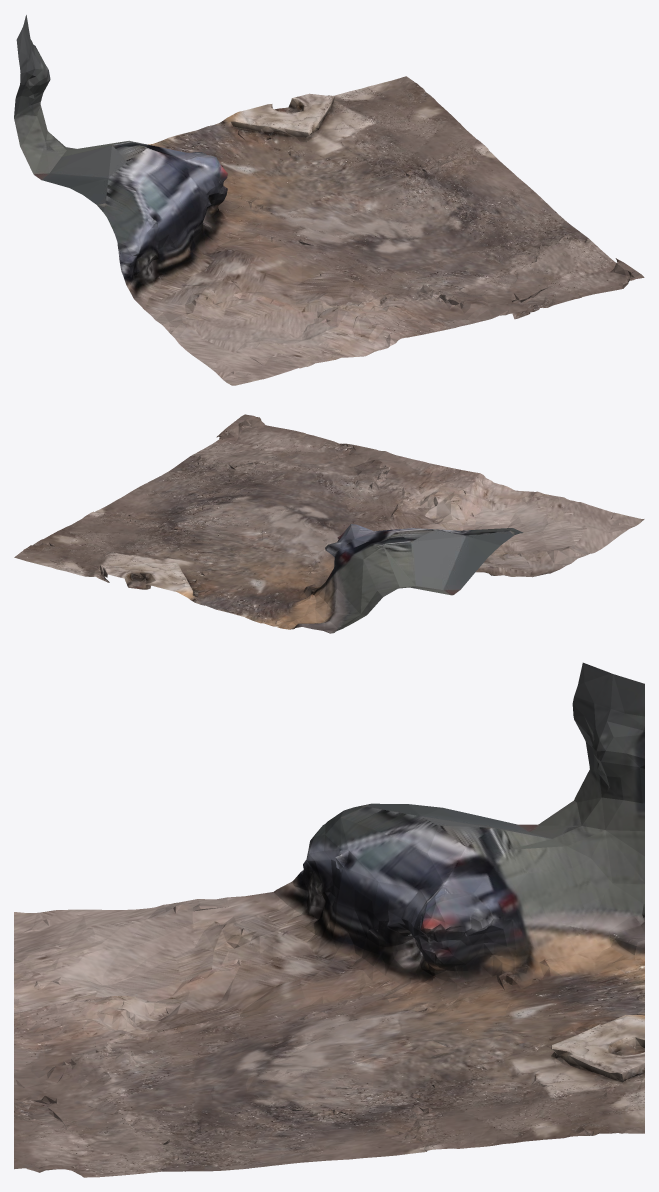
3 views of the same model, one above another, from view 1: azimuth 30°, elevation 25°; view 2: azimuth 150°, elevation 25°; view 3: azimuth 270°, elevation 25° (orthographic). The views are drawn at different scales.
Size of the model in its own units: 10.44 by 4.67 by 10.44.
3 materials, 3 textured.
